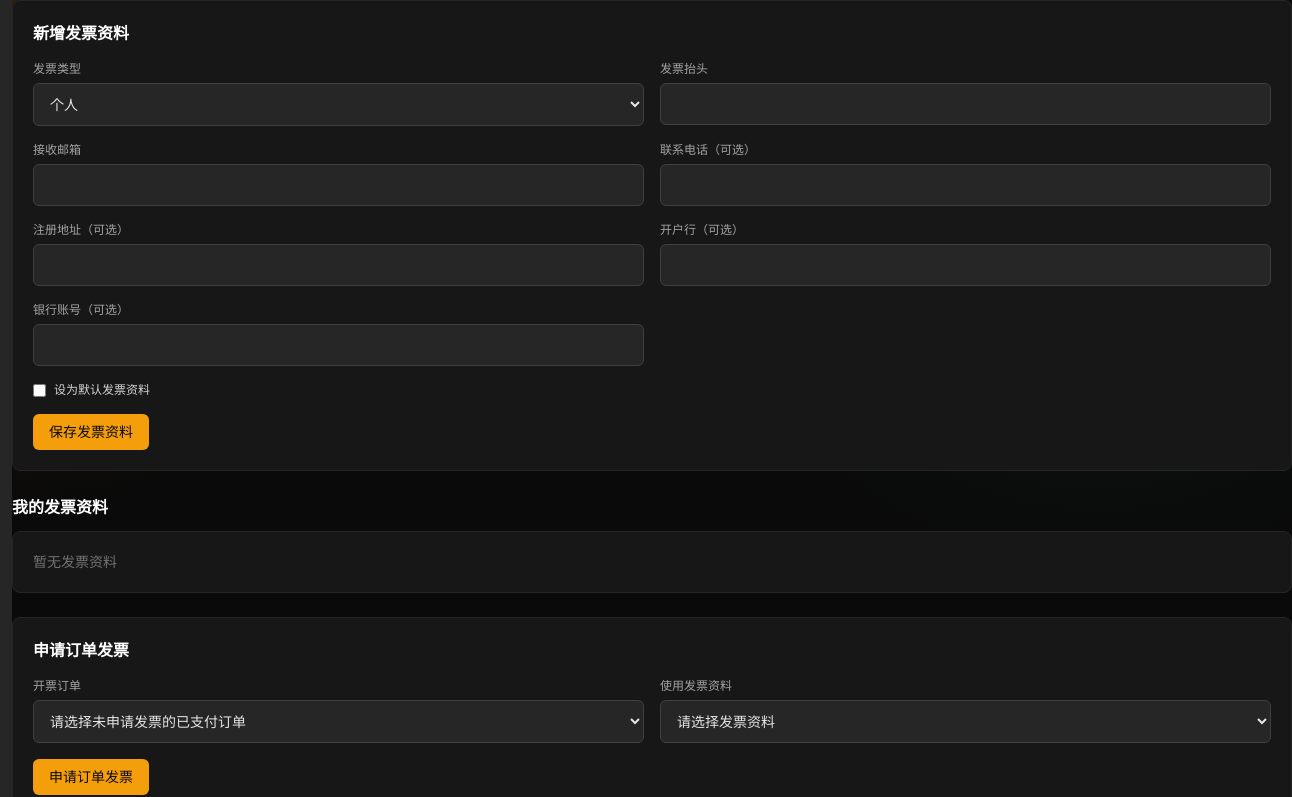
it: InvoicePanel › creates a customer invoice profile
Type "测试顾客" into the field labelled "发票抬头" at (966, 104), box [660,83,1271,125]
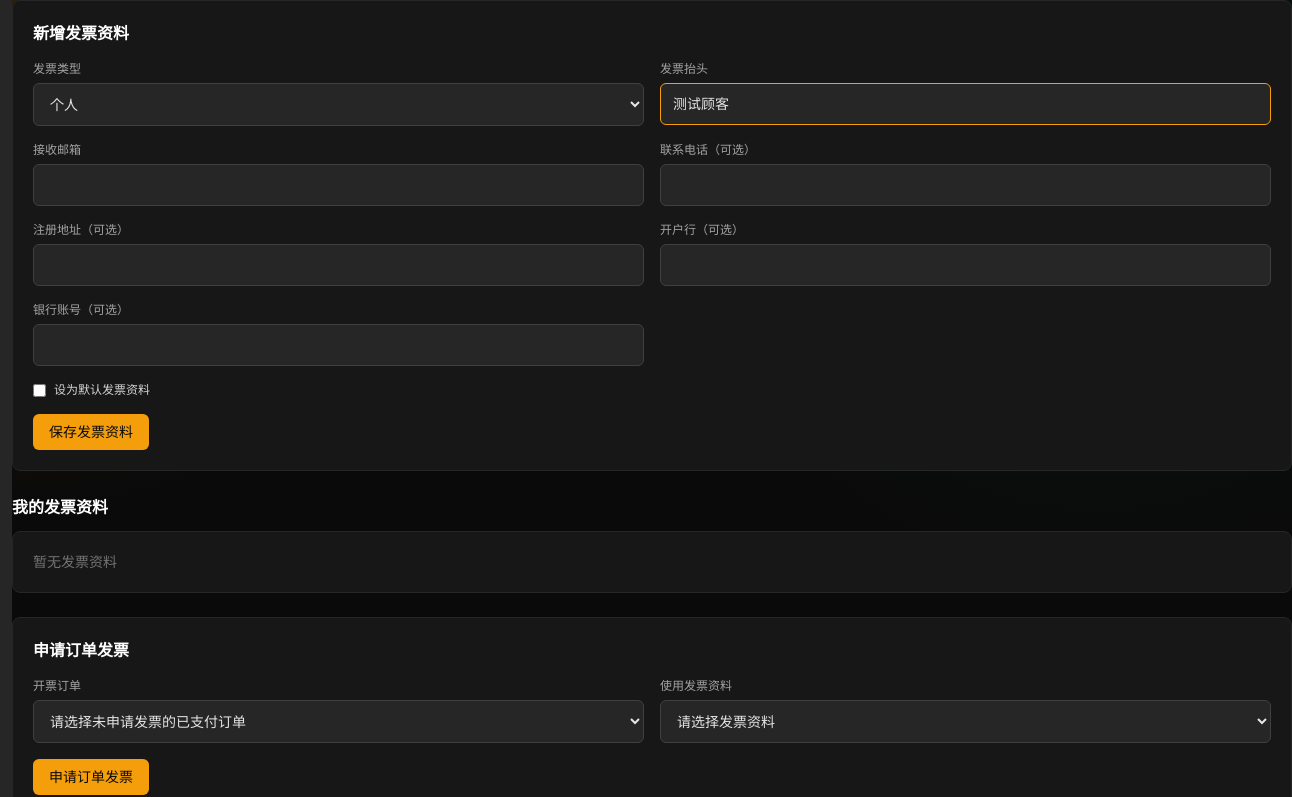
Type "invoice@example.com" into the field labelled "接收邮箱" at (338, 185), box [33,164,644,206]
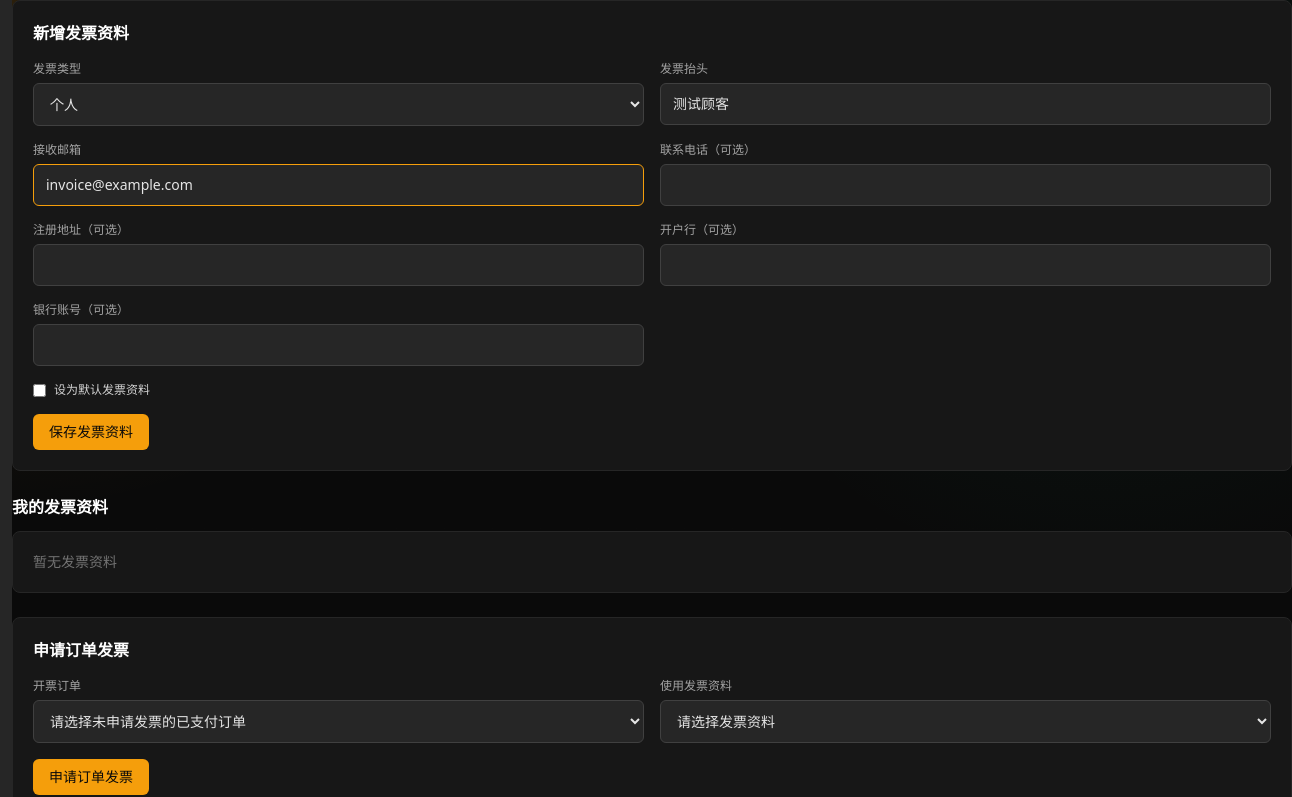
Type "13800138000" into the field labelled "联系电话（可选）" at (966, 185), box [660,164,1271,206]
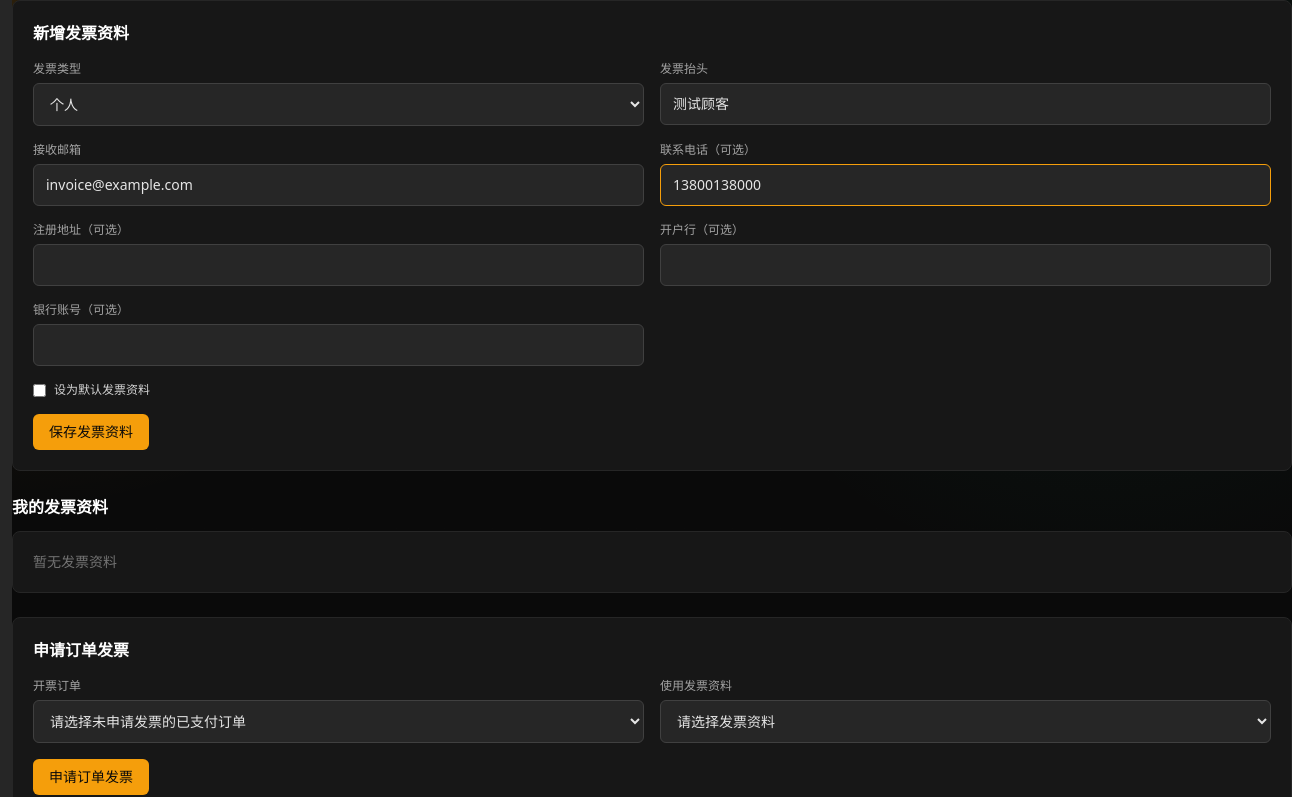
Click the button "保存发票资料" at (91, 432), box [33,414,149,450]
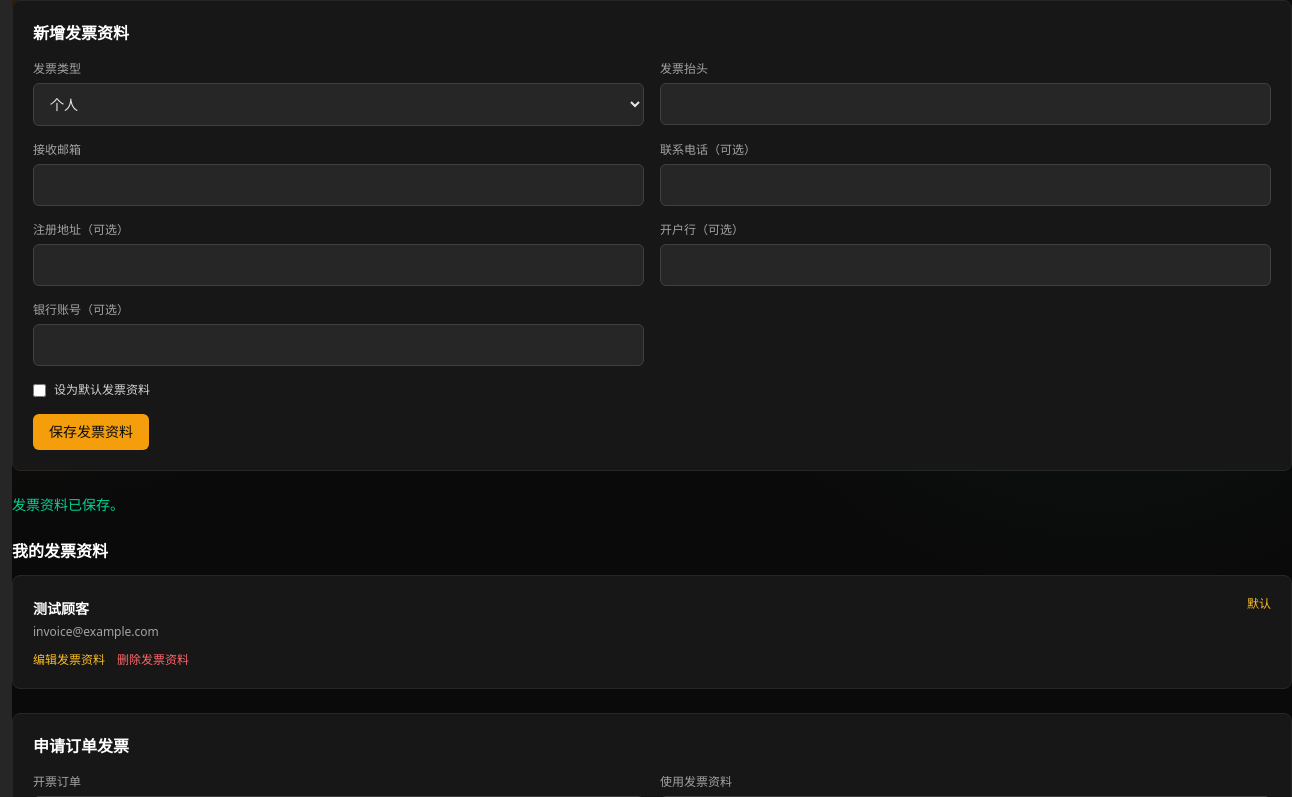
Expected: the message shows "发票资料已保存", [12,495,124,514]
Expected: the text "测试顾客" is shown, [33,599,89,618]
